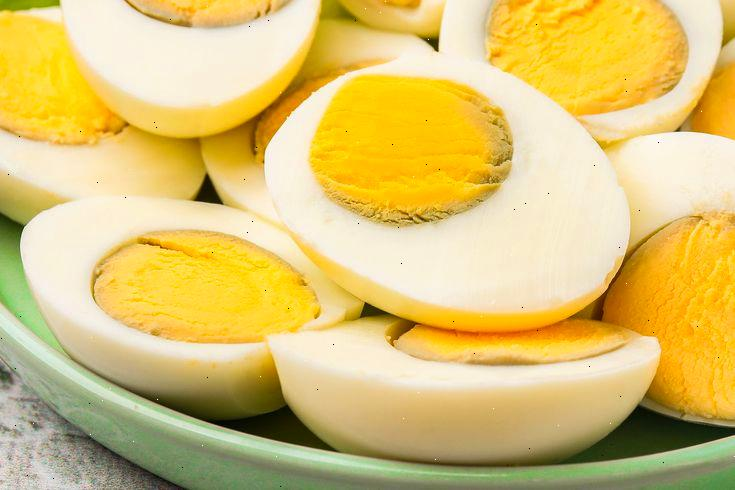eggs: (18, 0, 735, 456)
